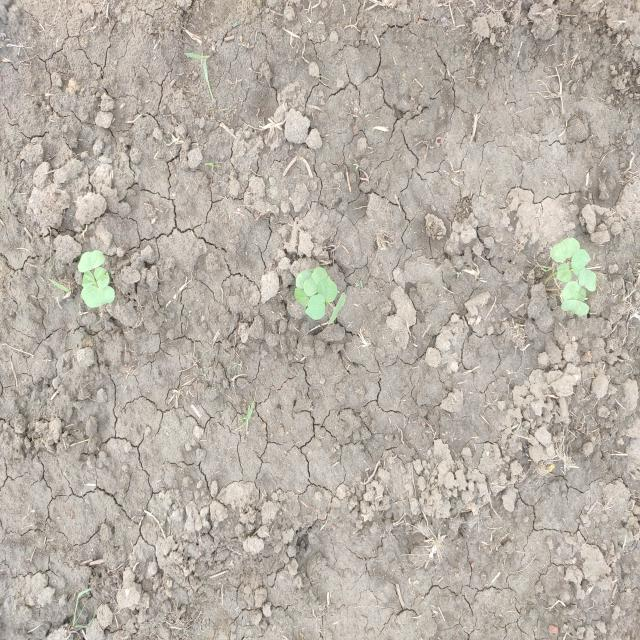seedling_s4: (81, 285, 115, 308), (303, 266, 328, 297), (551, 238, 580, 262), (77, 250, 105, 272), (317, 276, 338, 302), (328, 292, 345, 324), (571, 249, 591, 276), (305, 294, 325, 320), (561, 299, 590, 316), (578, 268, 596, 292), (561, 280, 582, 300), (295, 269, 313, 289), (94, 267, 110, 289), (556, 263, 572, 282), (294, 287, 309, 307), (81, 271, 97, 287), (578, 288, 586, 301)
